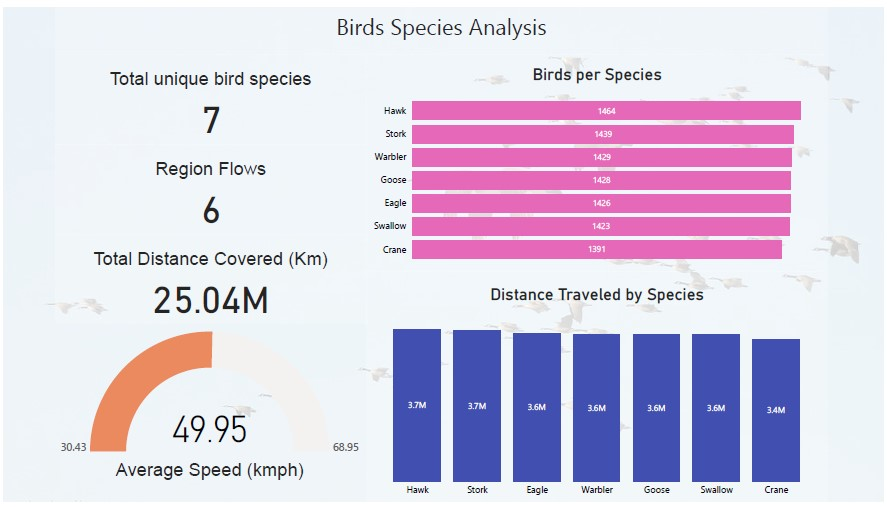

The page's visual inventory and layout, read from the dashboard file:
{"tool":"powerbi","page":{"name":"Species Summary","canvas":[1280,720],"ordinal":2},"visuals":[{"type":"card","title":"Total unique bird species","fields":{"Values":["Count(bird_migration_data.Species)"]},"box":[74.8,67.8,453.2,131.3],"z":0},{"type":"textbox","box":[74.8,0,1123.8,67.8],"z":1000},{"type":"barChart","title":"Birds per Species","fields":{"Category":["bird_migration_data.Species"],"Y":["CountNonNull(bird_migration_data.Bird_ID)"]},"box":[528,67.8,670.6,316.2],"z":2000},{"type":"clusteredColumnChart","title":"Distance Traveled  by Species","fields":{"Category":["bird_migration_data.Species"],"Y":["bird_migration_data.Total_Distance_By_Species"]},"box":[528,384,670.6,336],"z":3000},{"type":"card","title":"Region Flows","fields":{"Values":["Count(bird_migration_data.Region)"]},"box":[74.8,199.1,453.2,131.3],"z":4000},{"type":"gauge","title":"Average Speed ","fields":{"Y":["Avg(bird_migration_data.Average_Speed_kmph)"],"MinValue":["Min(bird_migration_data.Average_Speed_kmph)1"],"MaxValue":["Max(bird_migration_data.Average_Speed_kmph)2"]},"box":[72.9,461.4,454.3,200],"z":5000},{"type":"card","title":"Total Distance Covered (Km)","fields":{"Values":["Sum(bird_migration_data.Flight_Distance_km)"]},"box":[74.8,330.4,453.2,130],"z":6000},{"type":"textbox","box":[72.9,644.3,454.3,75.7],"z":7000}]}

Visuals, with their boxes in screenshot pixels (x1, y1, x2, y2), scaled from the page's 1280x720 canvas onto the 887x507 screenshot:
"Total unique bird species" card: <bbox>52, 48, 366, 140</bbox>
textbox: <bbox>52, 0, 831, 48</bbox>
"Birds per Species" barChart: <bbox>366, 48, 831, 270</bbox>
"Distance Traveled  by Species" clusteredColumnChart: <bbox>366, 270, 831, 506</bbox>
"Region Flows" card: <bbox>52, 140, 366, 233</bbox>
"Average Speed " gauge: <bbox>51, 325, 365, 466</bbox>
"Total Distance Covered (Km)" card: <bbox>52, 233, 366, 324</bbox>
textbox: <bbox>51, 454, 365, 506</bbox>
